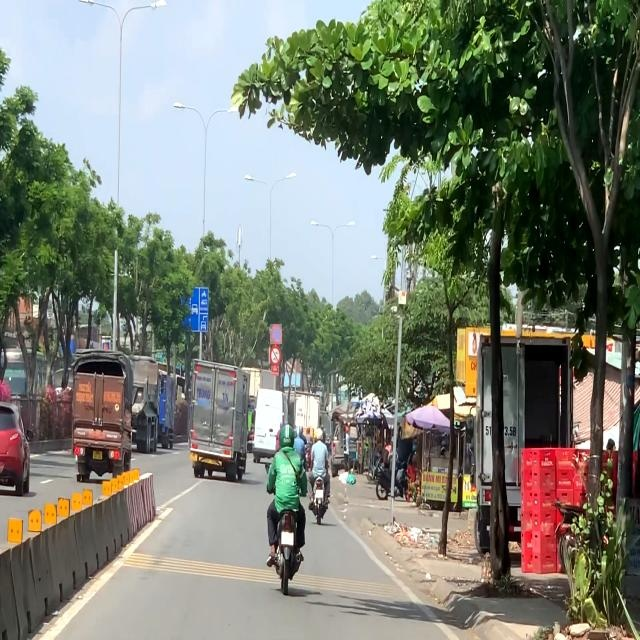bien_cam: (270, 324, 282, 344)
